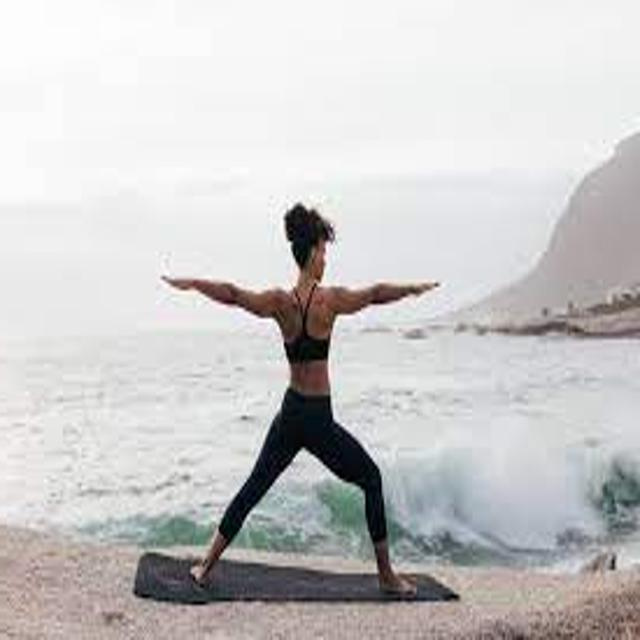Warrior_II: (150, 199, 448, 603)
